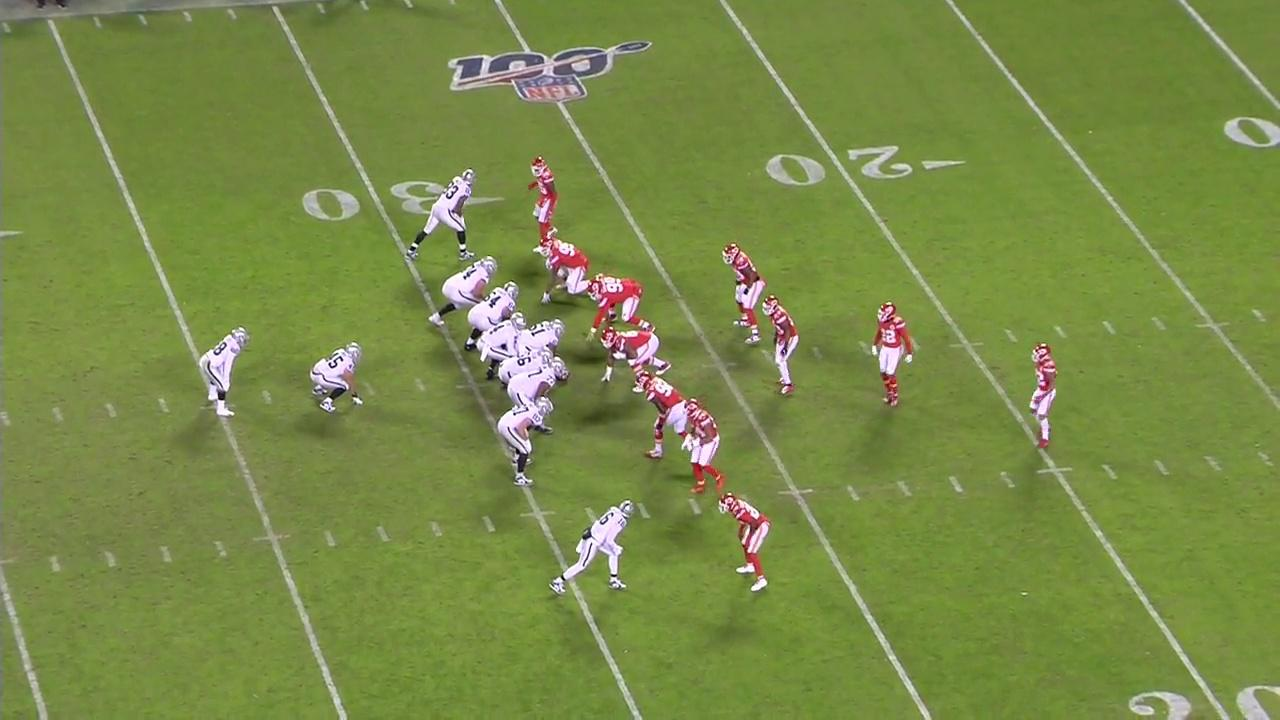defense: (714, 490, 774, 596), (863, 300, 919, 410), (536, 229, 604, 308), (599, 326, 675, 396), (718, 237, 765, 347), (634, 371, 690, 463), (583, 274, 661, 340), (760, 294, 803, 400), (1025, 342, 1065, 454), (682, 397, 727, 496), (522, 151, 560, 255)
oline: (423, 255, 499, 334), (463, 279, 523, 359), (506, 355, 568, 413), (496, 344, 557, 387), (514, 317, 566, 357)
qb: (476, 311, 528, 385)
skill: (547, 498, 637, 600), (404, 166, 479, 263), (492, 397, 557, 487), (195, 323, 253, 420), (308, 339, 367, 417)
